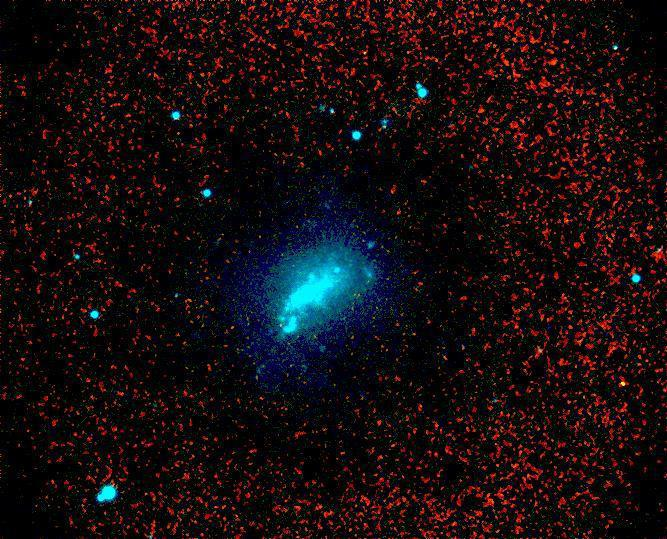star: (607, 366, 637, 396)
